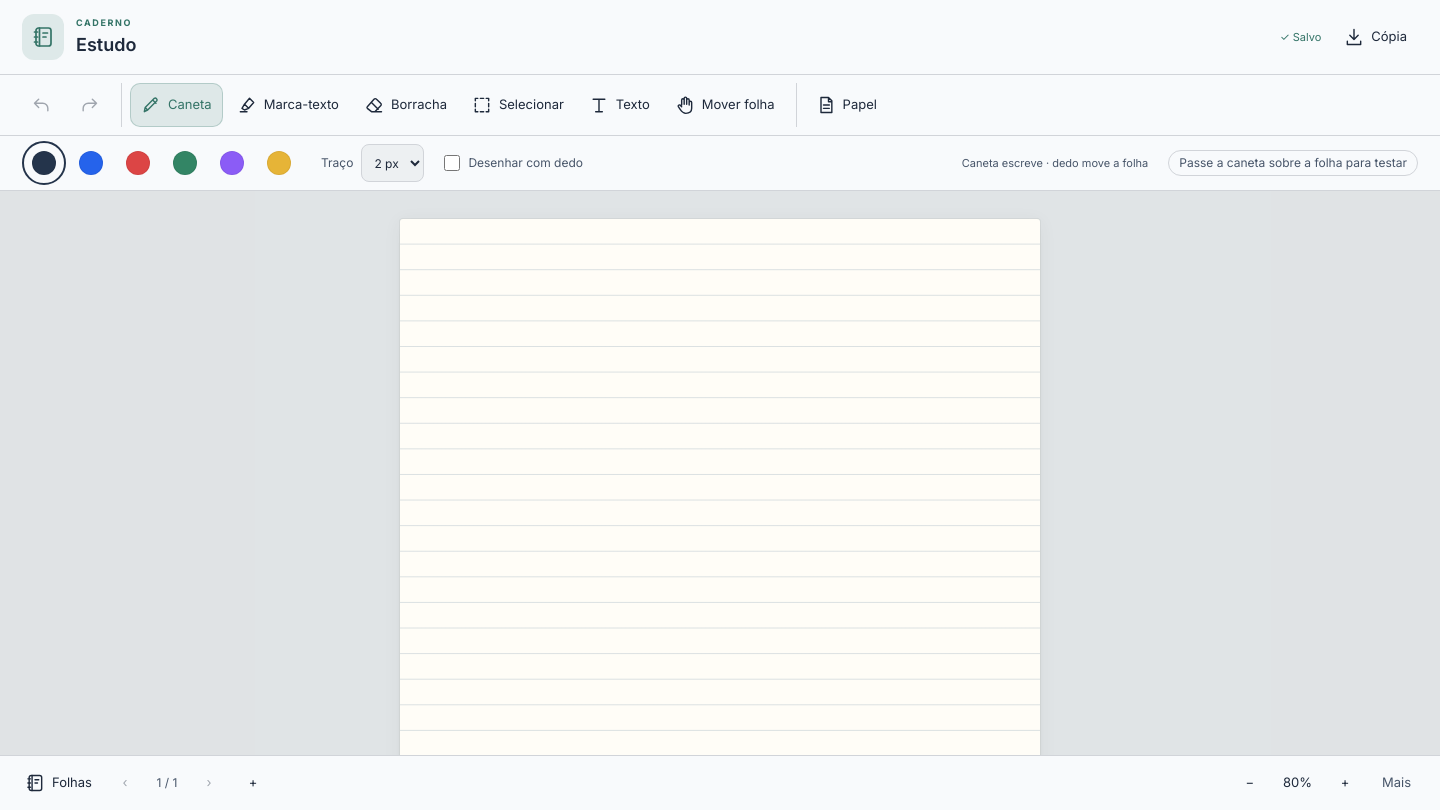
Test: Notebook editor layout › disables colors while the eraser is selected
Expected: the element named "Ferramentas de escrita" is shown, x1=0 y1=75 x2=1439 y2=136
Expected: the field named "Título do caderno" is enabled, x1=76 y1=31 x2=1268 y2=58
Step 1. Click the button "Borracha" → click(405, 105), box x1=353 y1=83 x2=458 y2=127
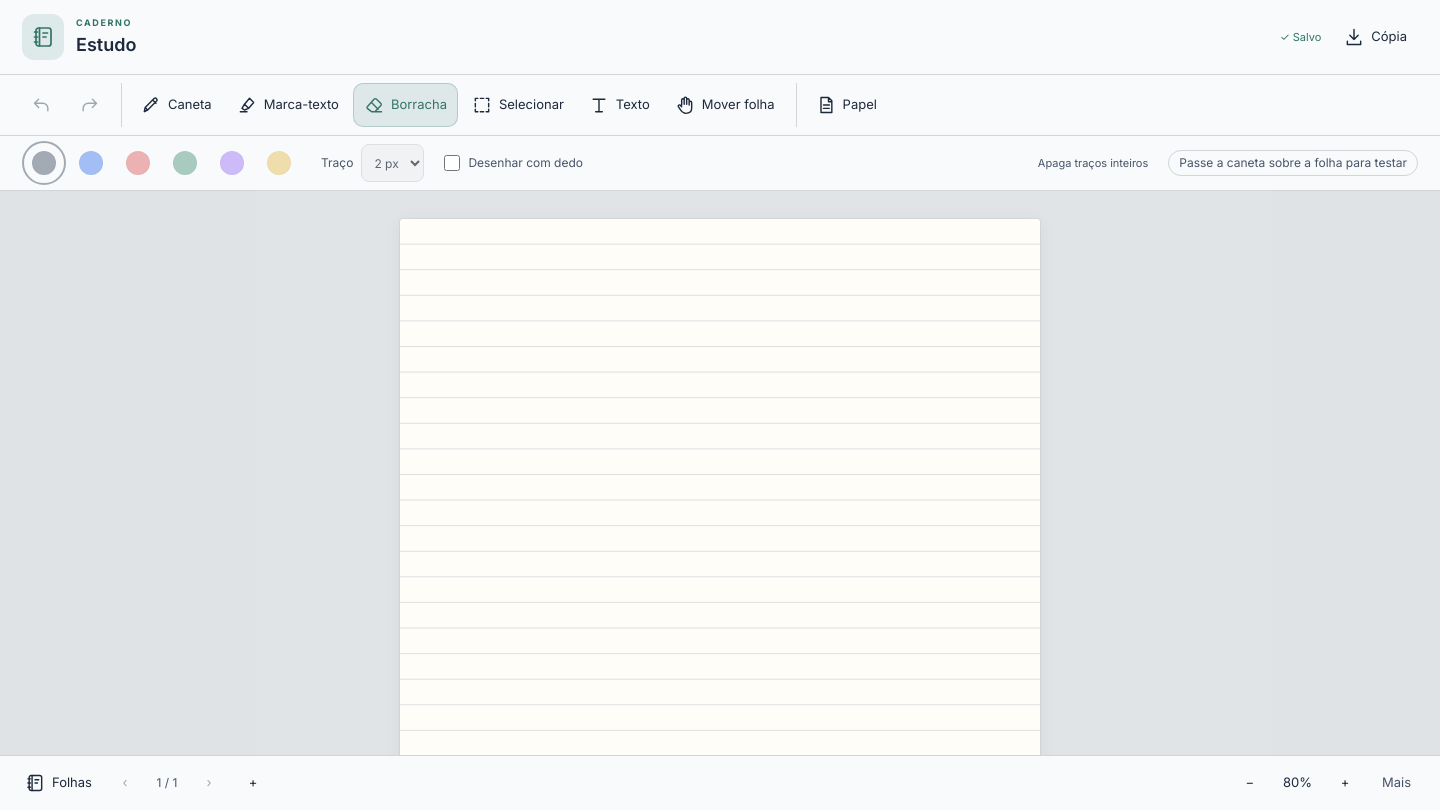
Now the button named "Azul" is disabled, box x1=69 y1=141 x2=113 y2=185
Step 2. Click the button "Texto" → click(619, 105), box x1=578 y1=83 x2=661 y2=127
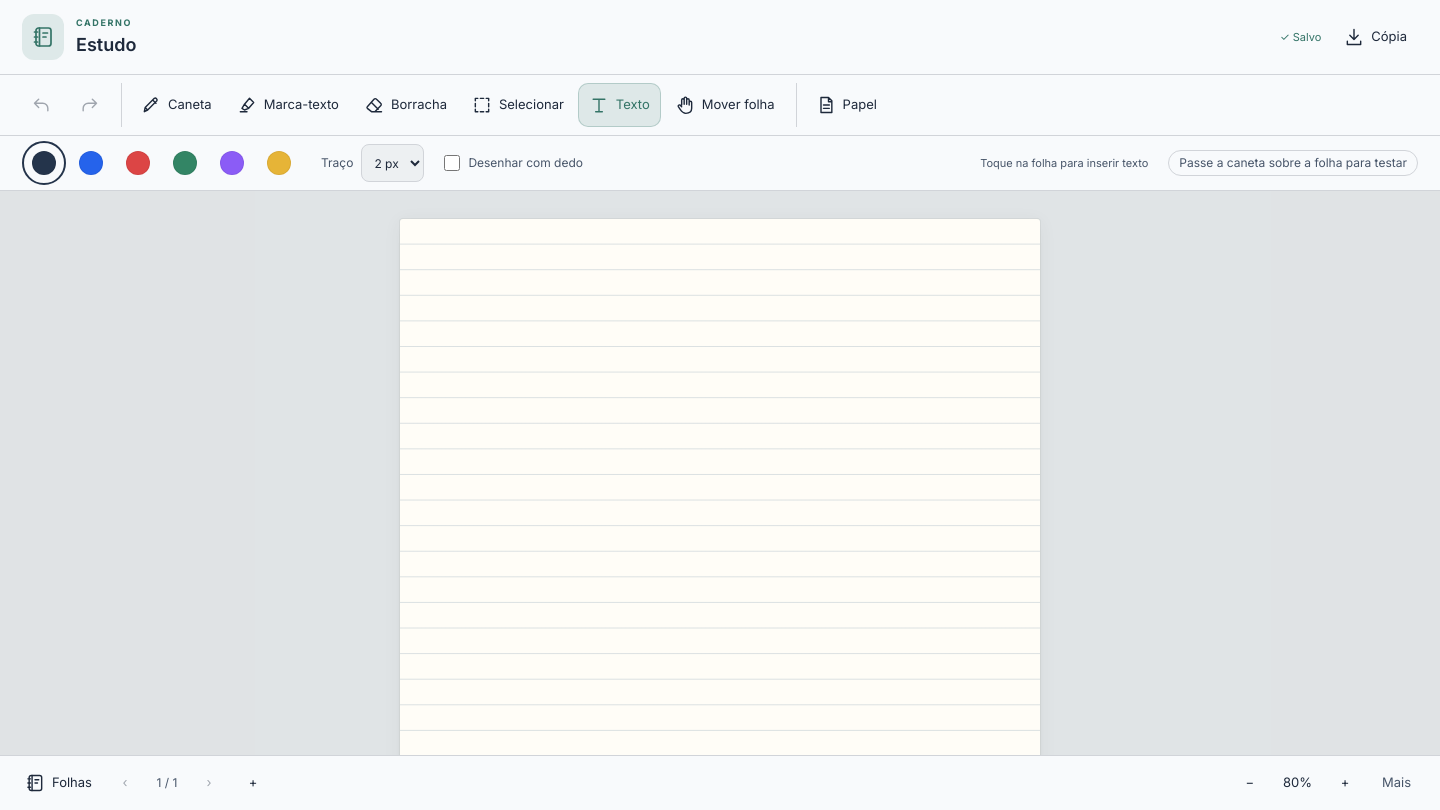
Now the button named "Azul" is enabled, box x1=69 y1=141 x2=113 y2=185
